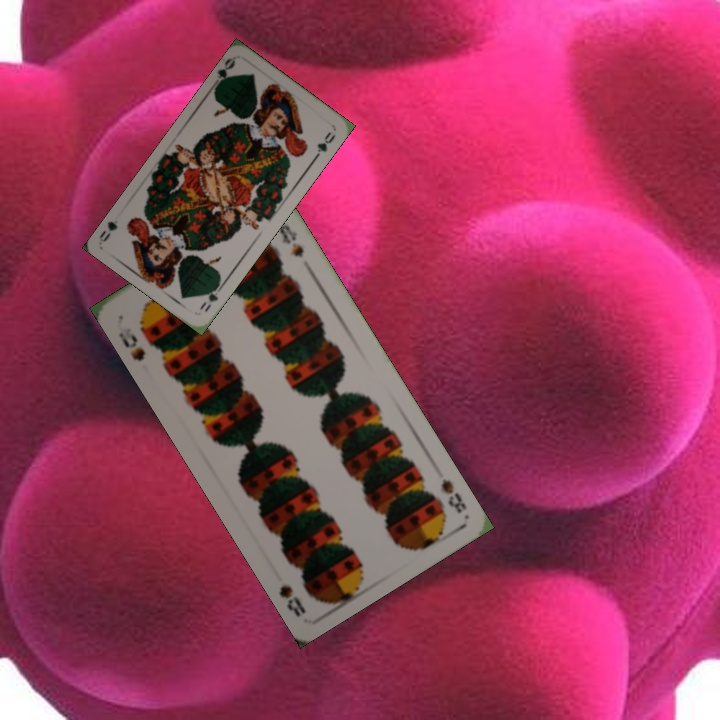GO: (195, 278, 226, 315), (208, 54, 238, 91)
S8: (114, 318, 149, 364), (436, 475, 470, 516)
